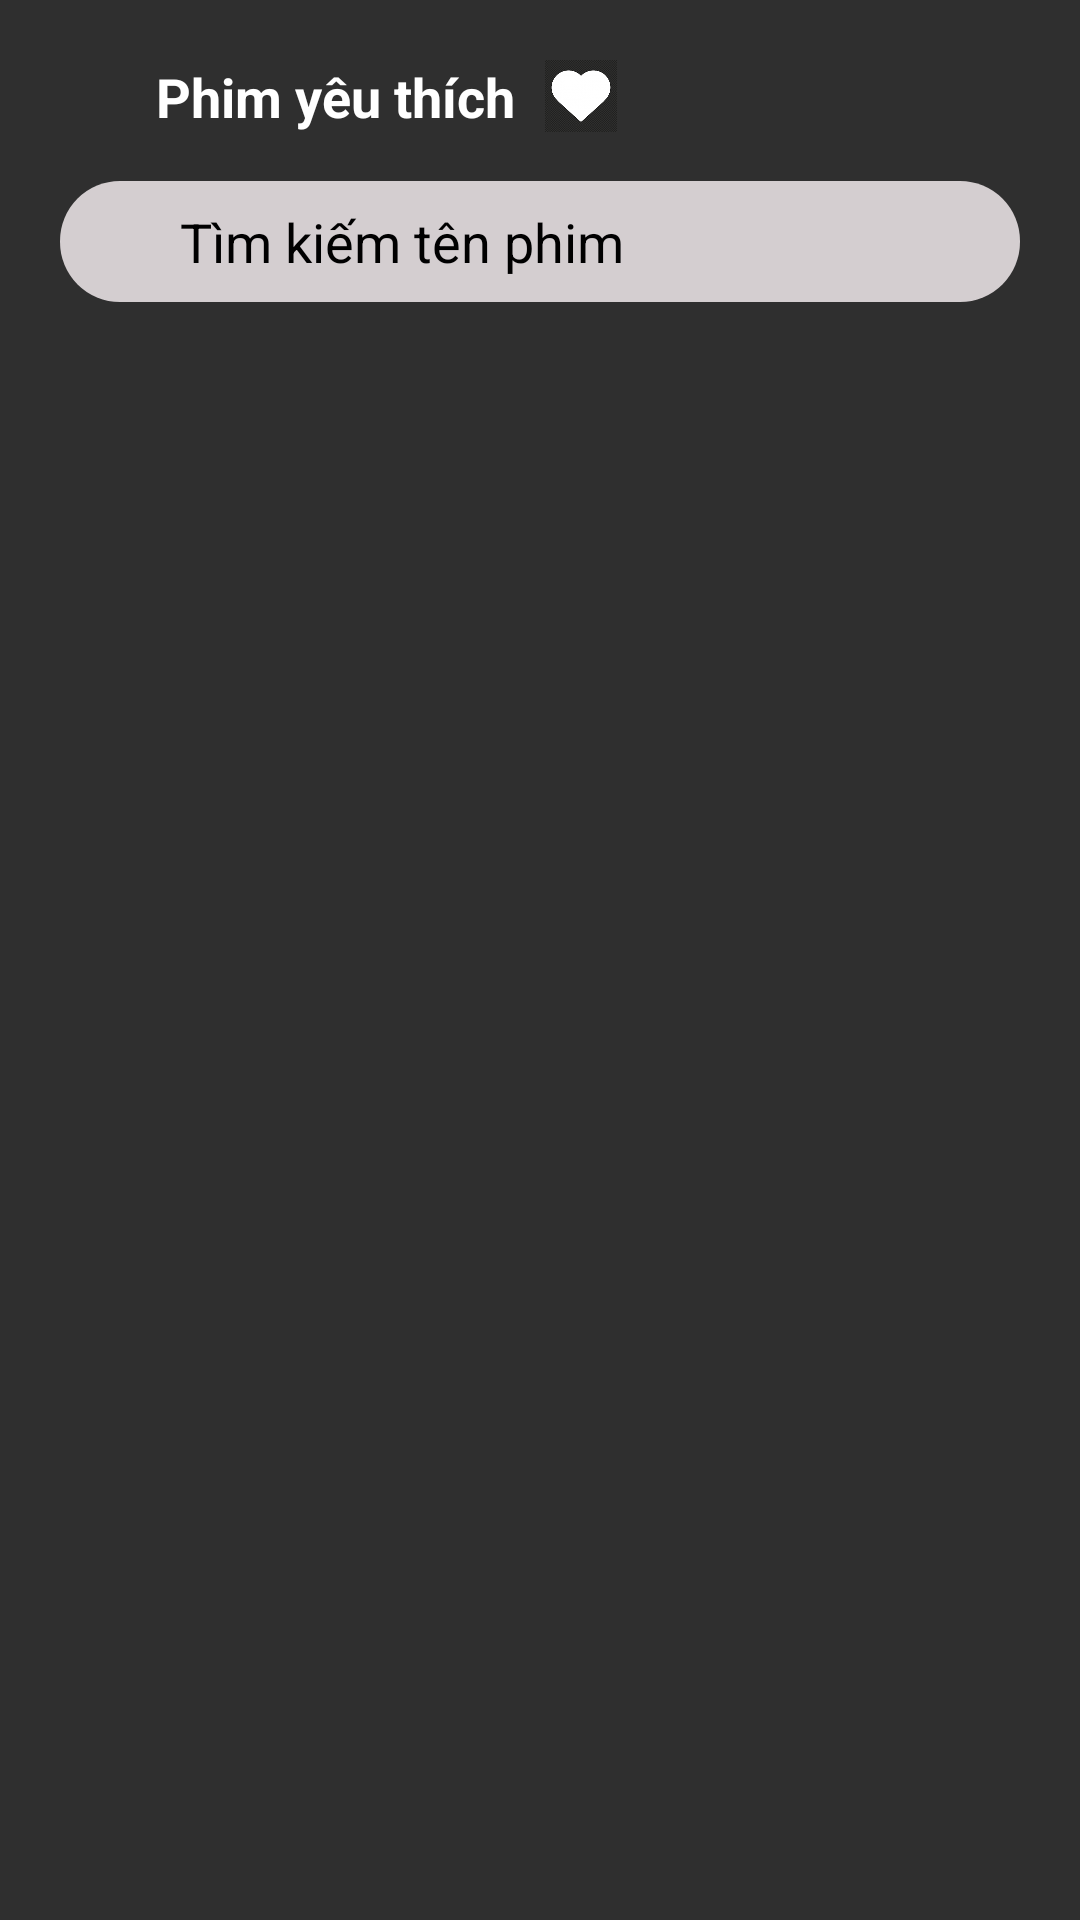

Icon bounding boxes for this 1080×1920 phone screenshot, format region(x1, y1, x2, y2):
heart: region(551, 70, 611, 122)
